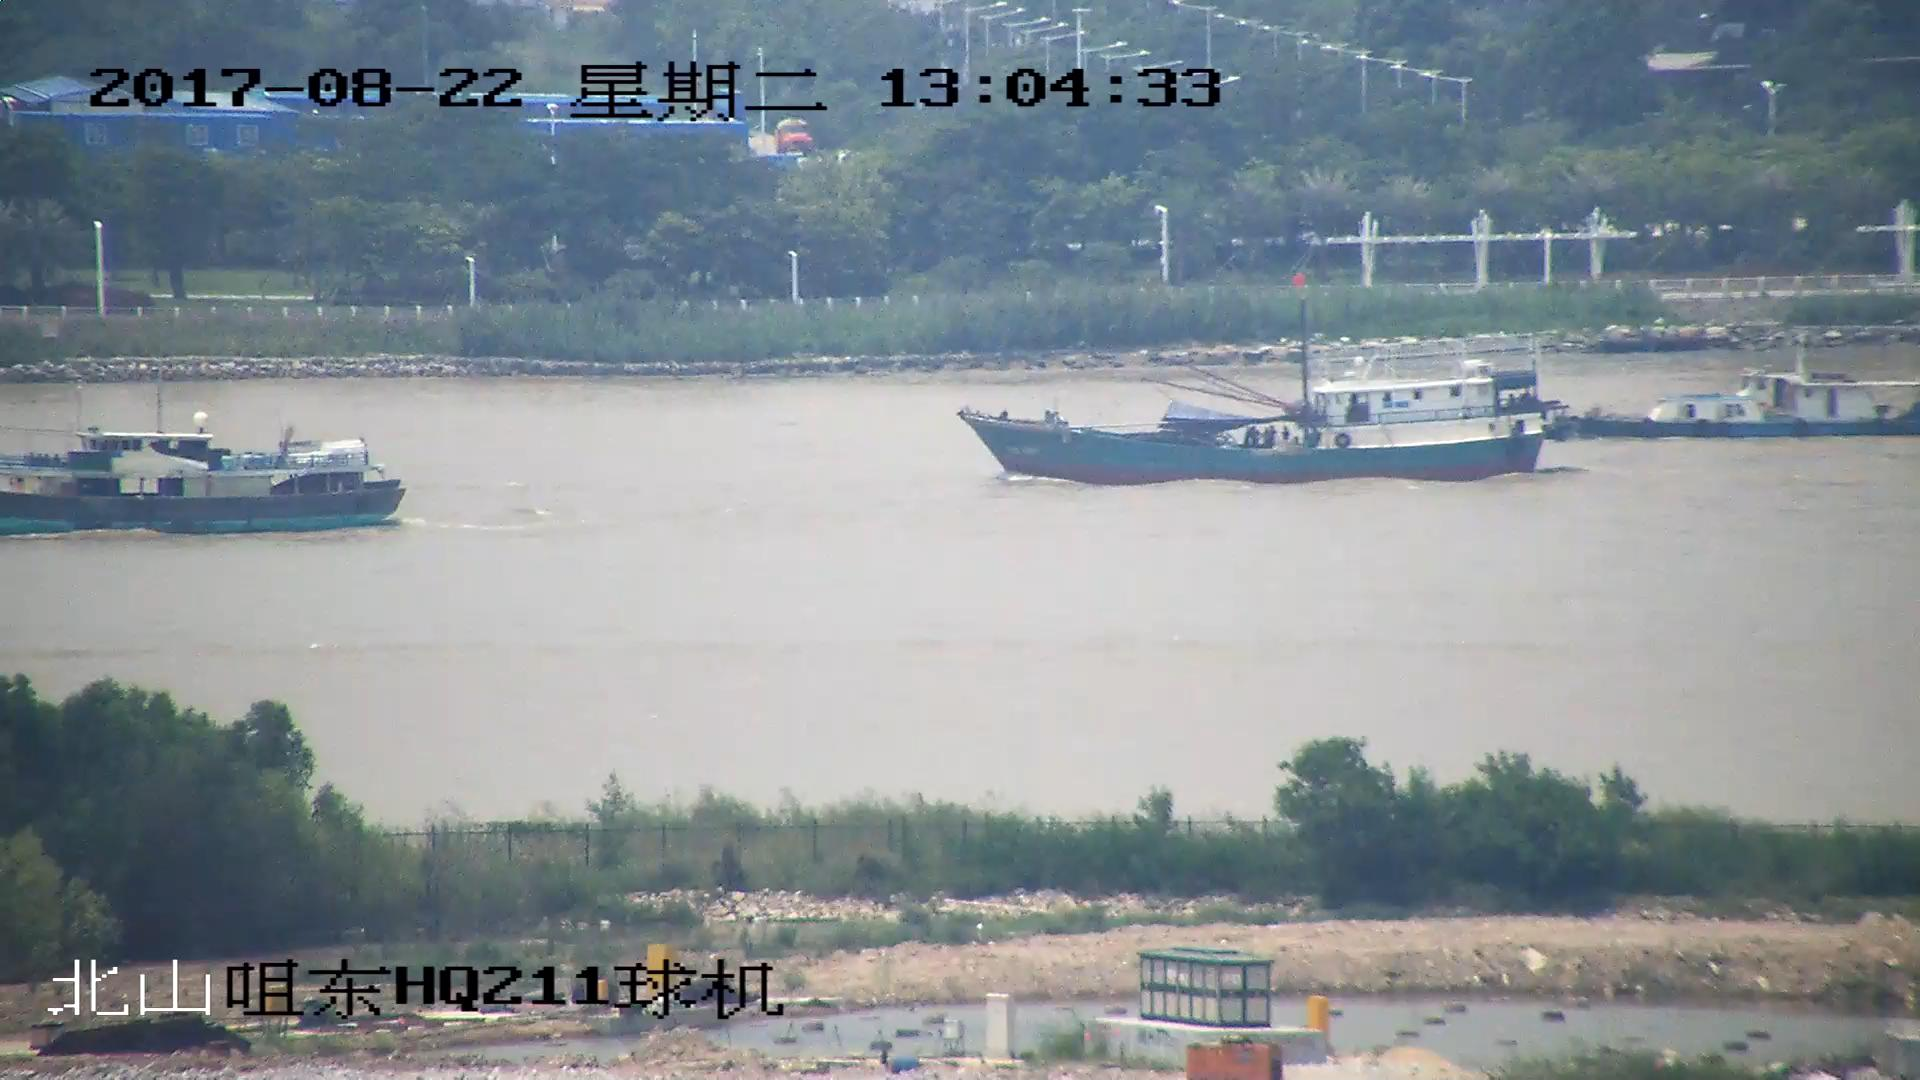fishing boat: (961, 278, 1576, 486), (1, 408, 408, 537), (1540, 348, 1920, 442)
